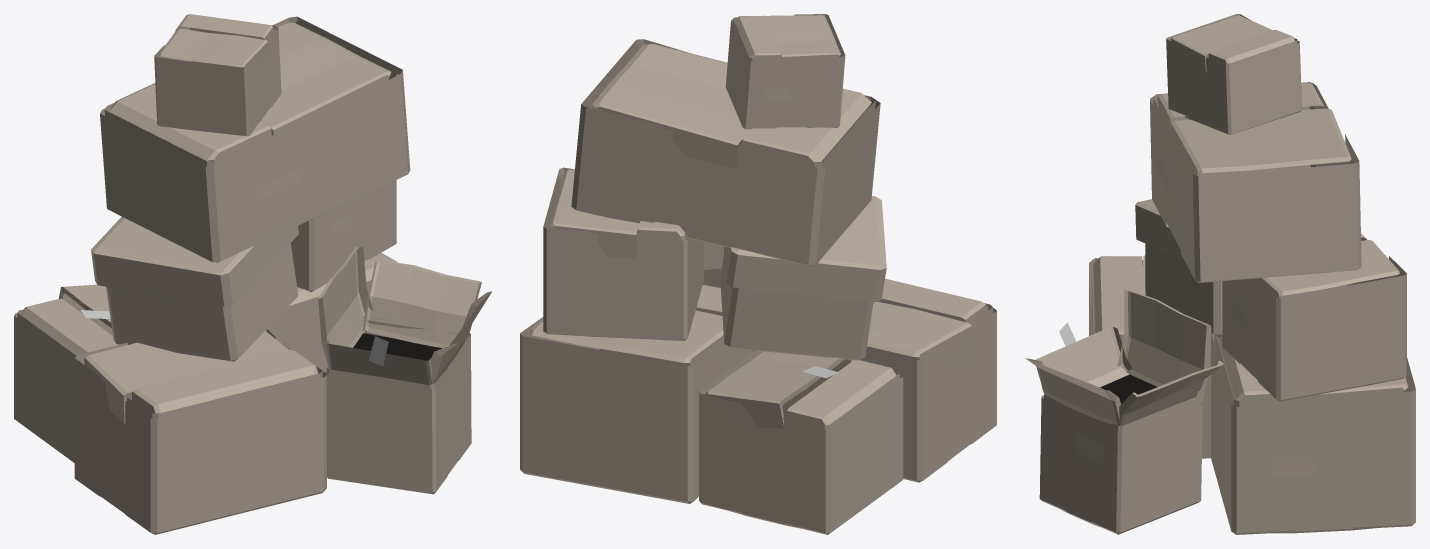
The model's file is CardboardBox01.fbx.
3 views of the same model, side by side, from view 1: azimuth 30°, elevation 25°; view 2: azimuth 150°, elevation 25°; view 3: azimuth 270°, elevation 25° (orthographic). The views are drawn at different scales.
Parts seen in each view (by area): view 1: CardboardBox01; view 2: CardboardBox01; view 3: CardboardBox01.
Boxes of the visible parts, <box> form: CardboardBox01: <box>14,14,491,534</box>; CardboardBox01: <box>520,14,996,534</box>; CardboardBox01: <box>1025,14,1415,534</box>.
Size of the model in its own units: 170 by 191 by 164.
